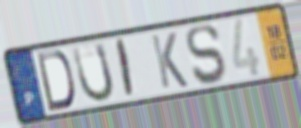4: (231, 16, 264, 78)
D: (35, 48, 76, 114)
I: (115, 36, 136, 101)
K: (148, 30, 190, 91)
S: (184, 22, 228, 88)
U: (70, 40, 116, 105)
